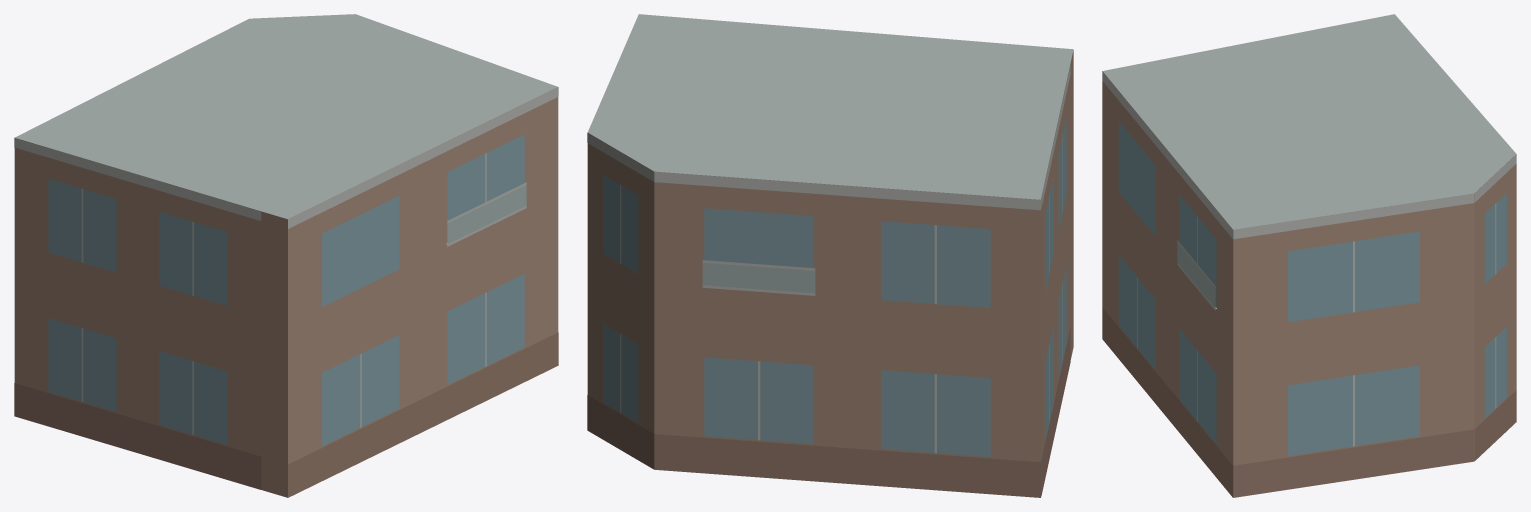
The model's file is survey-upis-32493825.glb.
The picture shows the model from 3 angles, left to right: view 1: azimuth 30°, elevation 25°; view 2: azimuth 150°, elevation 25°; view 3: azimuth 270°, elevation 25°; orthographic projection. The views are drawn at different scales.
Visible parts, largest first — view 1: survey-upis-32493825.tmp; view 2: survey-upis-32493825.tmp; view 3: survey-upis-32493825.tmp.
Boxes of the visible parts, x1=… form: survey-upis-32493825.tmp: x1=14, y1=14, x2=558, y2=497; survey-upis-32493825.tmp: x1=587, y1=14, x2=1073, y2=497; survey-upis-32493825.tmp: x1=1102, y1=14, x2=1516, y2=497.
Bounding box in the file's own units: 11.93 × 6.9 × 9.67.
